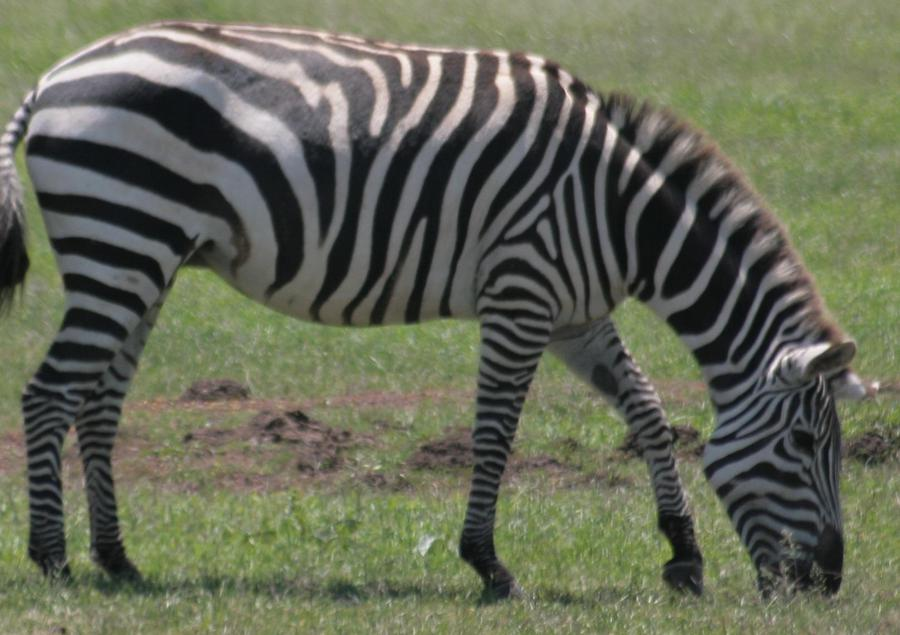zebra_plains: (10, 14, 617, 325)
